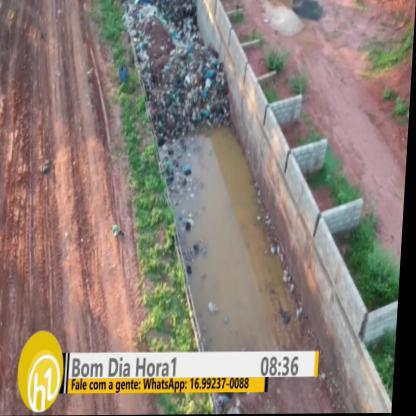agua: (195, 132, 269, 352)
lixo: (153, 47, 219, 117)
